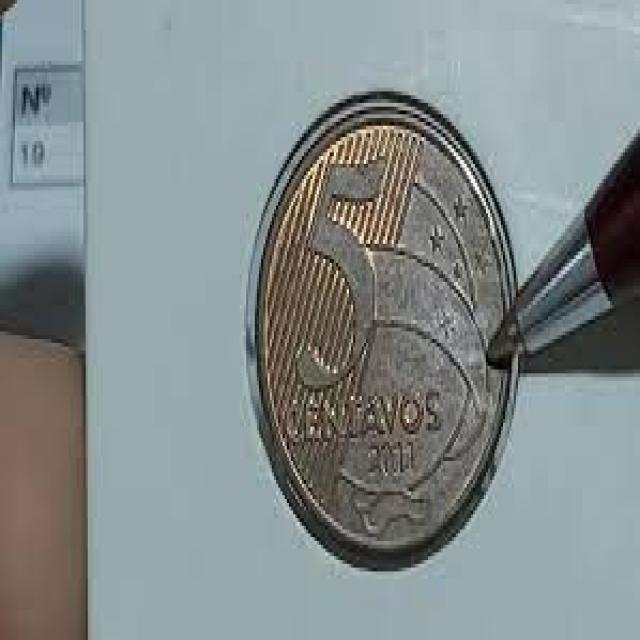5 cent: (261, 125, 508, 555)
